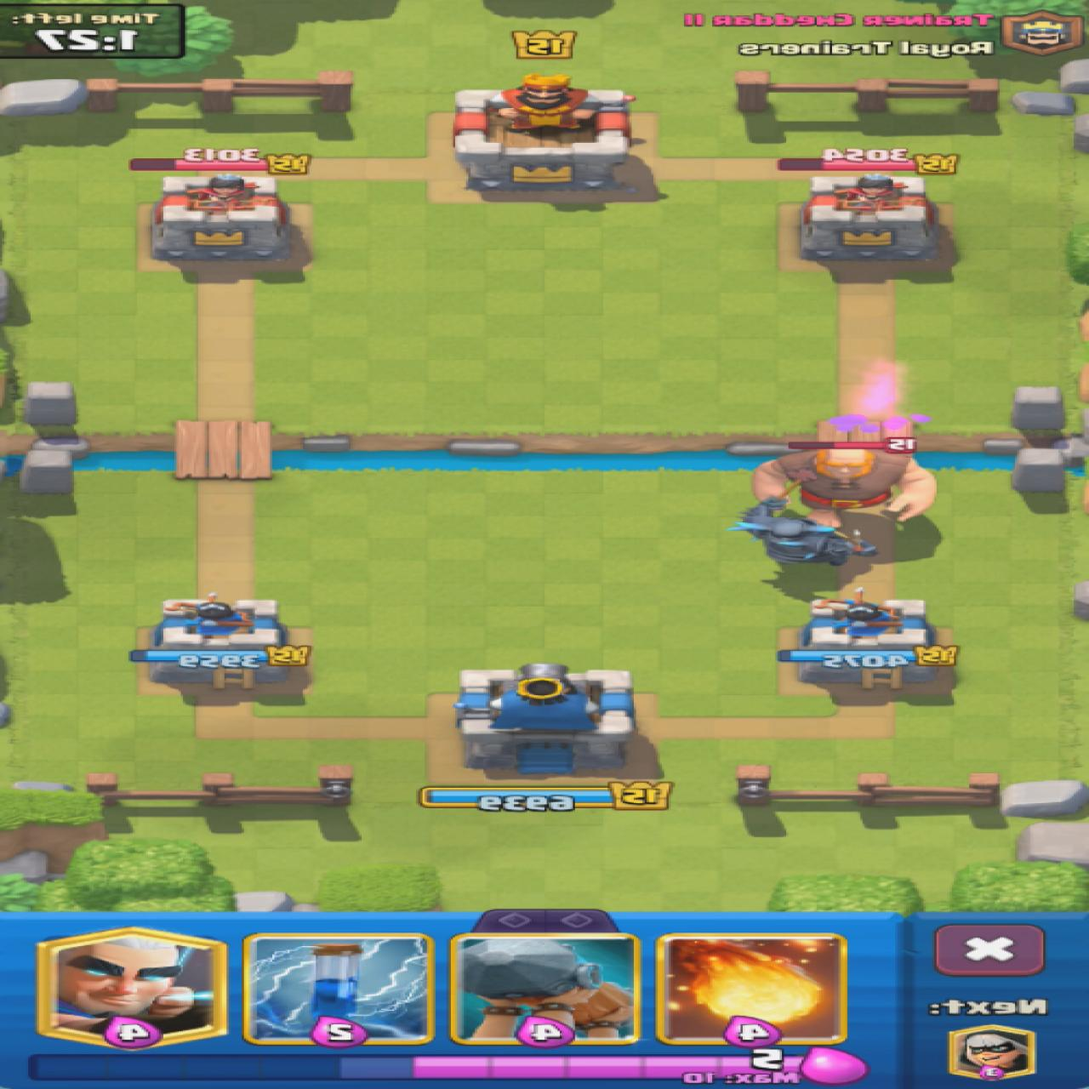Enemy-Giant: (756, 450, 934, 527)
Enemy-KingTower: (455, 77, 632, 192)
Enemy-PrincessTower: (152, 174, 290, 262), (802, 173, 937, 258)
